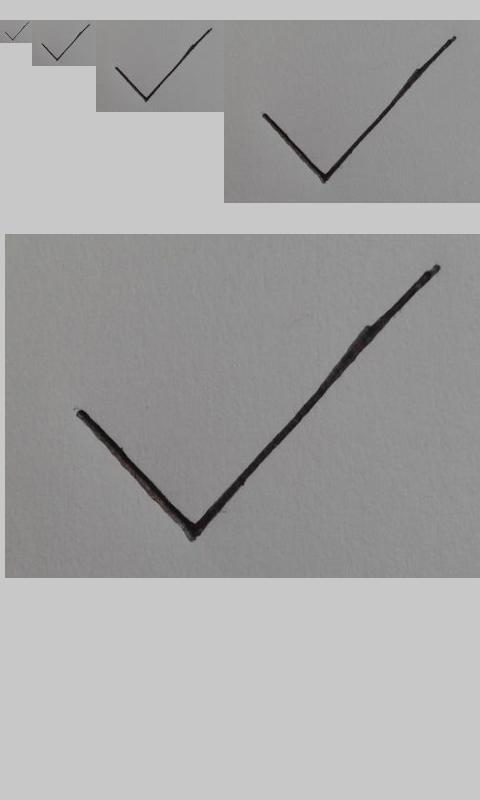check_box: (75, 267, 436, 542), (263, 36, 456, 184), (115, 28, 212, 102), (41, 24, 89, 61), (5, 22, 28, 40)
